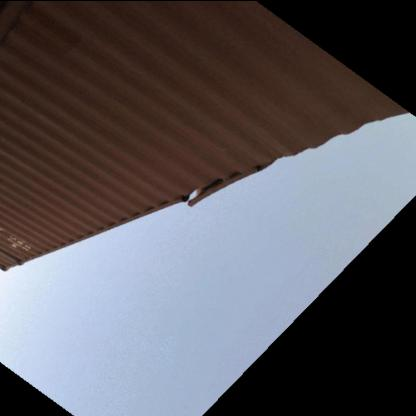Damage: (174, 146, 278, 216)
